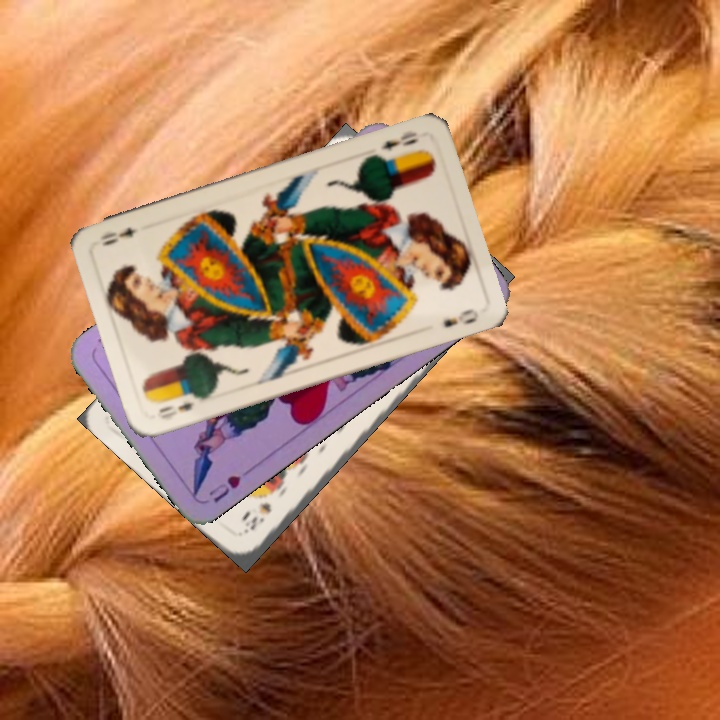EO: (376, 126, 421, 153), (152, 398, 197, 422)
HU: (204, 471, 244, 505)
S10: (239, 498, 274, 536)
